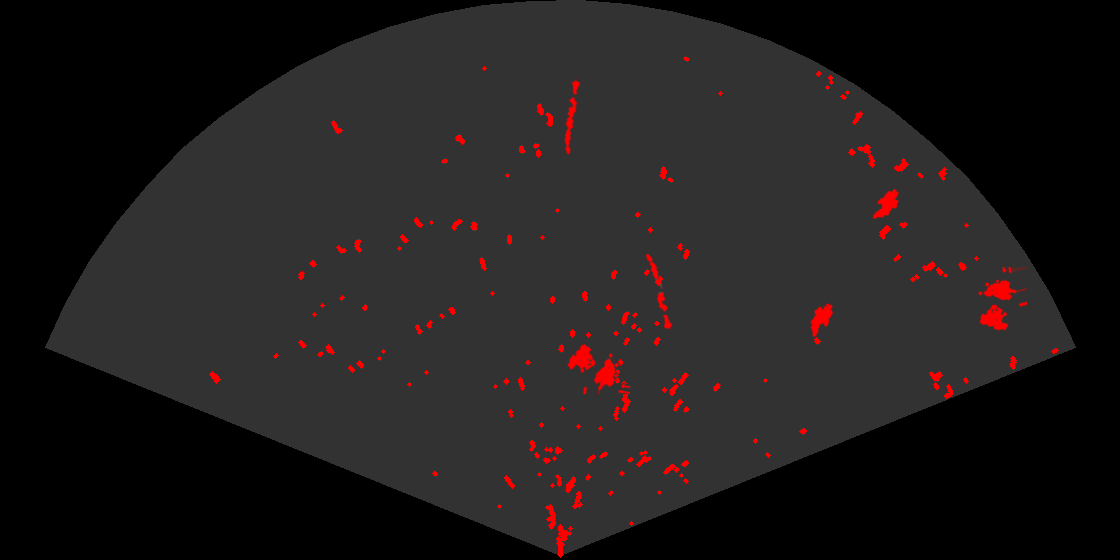AUV: (871, 187, 900, 221), (809, 302, 835, 339)
cage: (565, 342, 630, 394), (976, 267, 1027, 332)
chain: (644, 251, 674, 332), (563, 77, 582, 156)
